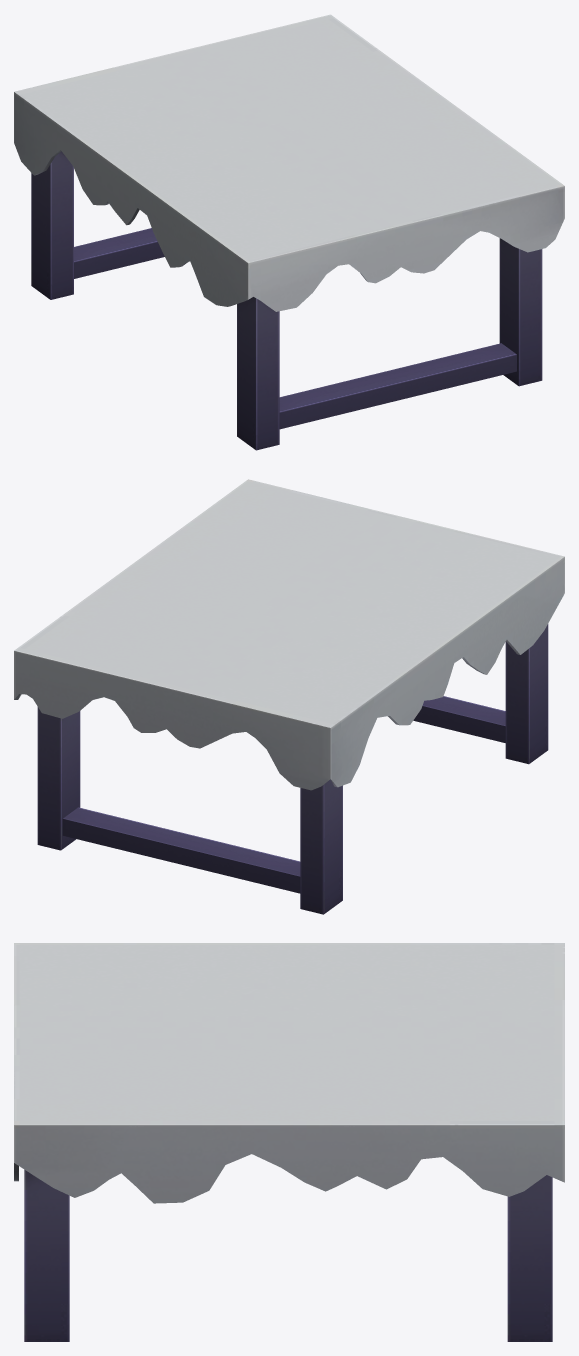
The model's file is my_halloween_01_p_table_01.glb.
The picture shows the model from 3 angles, top to bottom: view 1: azimuth 30°, elevation 25°; view 2: azimuth 150°, elevation 25°; view 3: azimuth 270°, elevation 25°; orthographic projection. The views are drawn at different scales.
Parts seen in each view (by area): view 1: my_halloween_01_p_table_01; view 2: my_halloween_01_p_table_01; view 3: my_halloween_01_p_table_01.
Boxes of the visible parts, x1,y1,x2,y2 form: my_halloween_01_p_table_01: [14, 14, 564, 450]; my_halloween_01_p_table_01: [14, 479, 564, 914]; my_halloween_01_p_table_01: [14, 943, 564, 1341].
Bounding box in the file's own units: 0.00512 × 0.00299 × 0.00656.
Materials: 1 (1 with a texture image).
